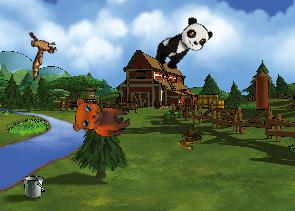bear: (71, 94, 131, 138)
eagle: (15, 24, 65, 81)
panda: (149, 13, 215, 76)
